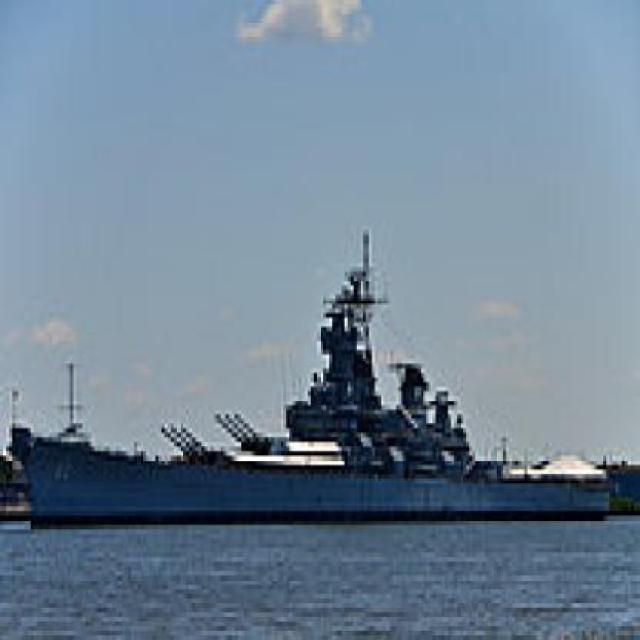warship2: (7, 236, 610, 544)
